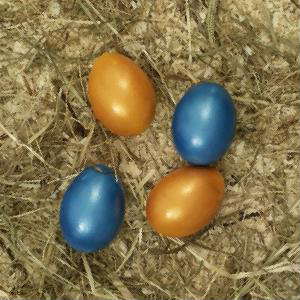egg: (58, 164, 125, 254), (144, 168, 225, 239), (89, 55, 157, 137), (174, 83, 236, 167)
